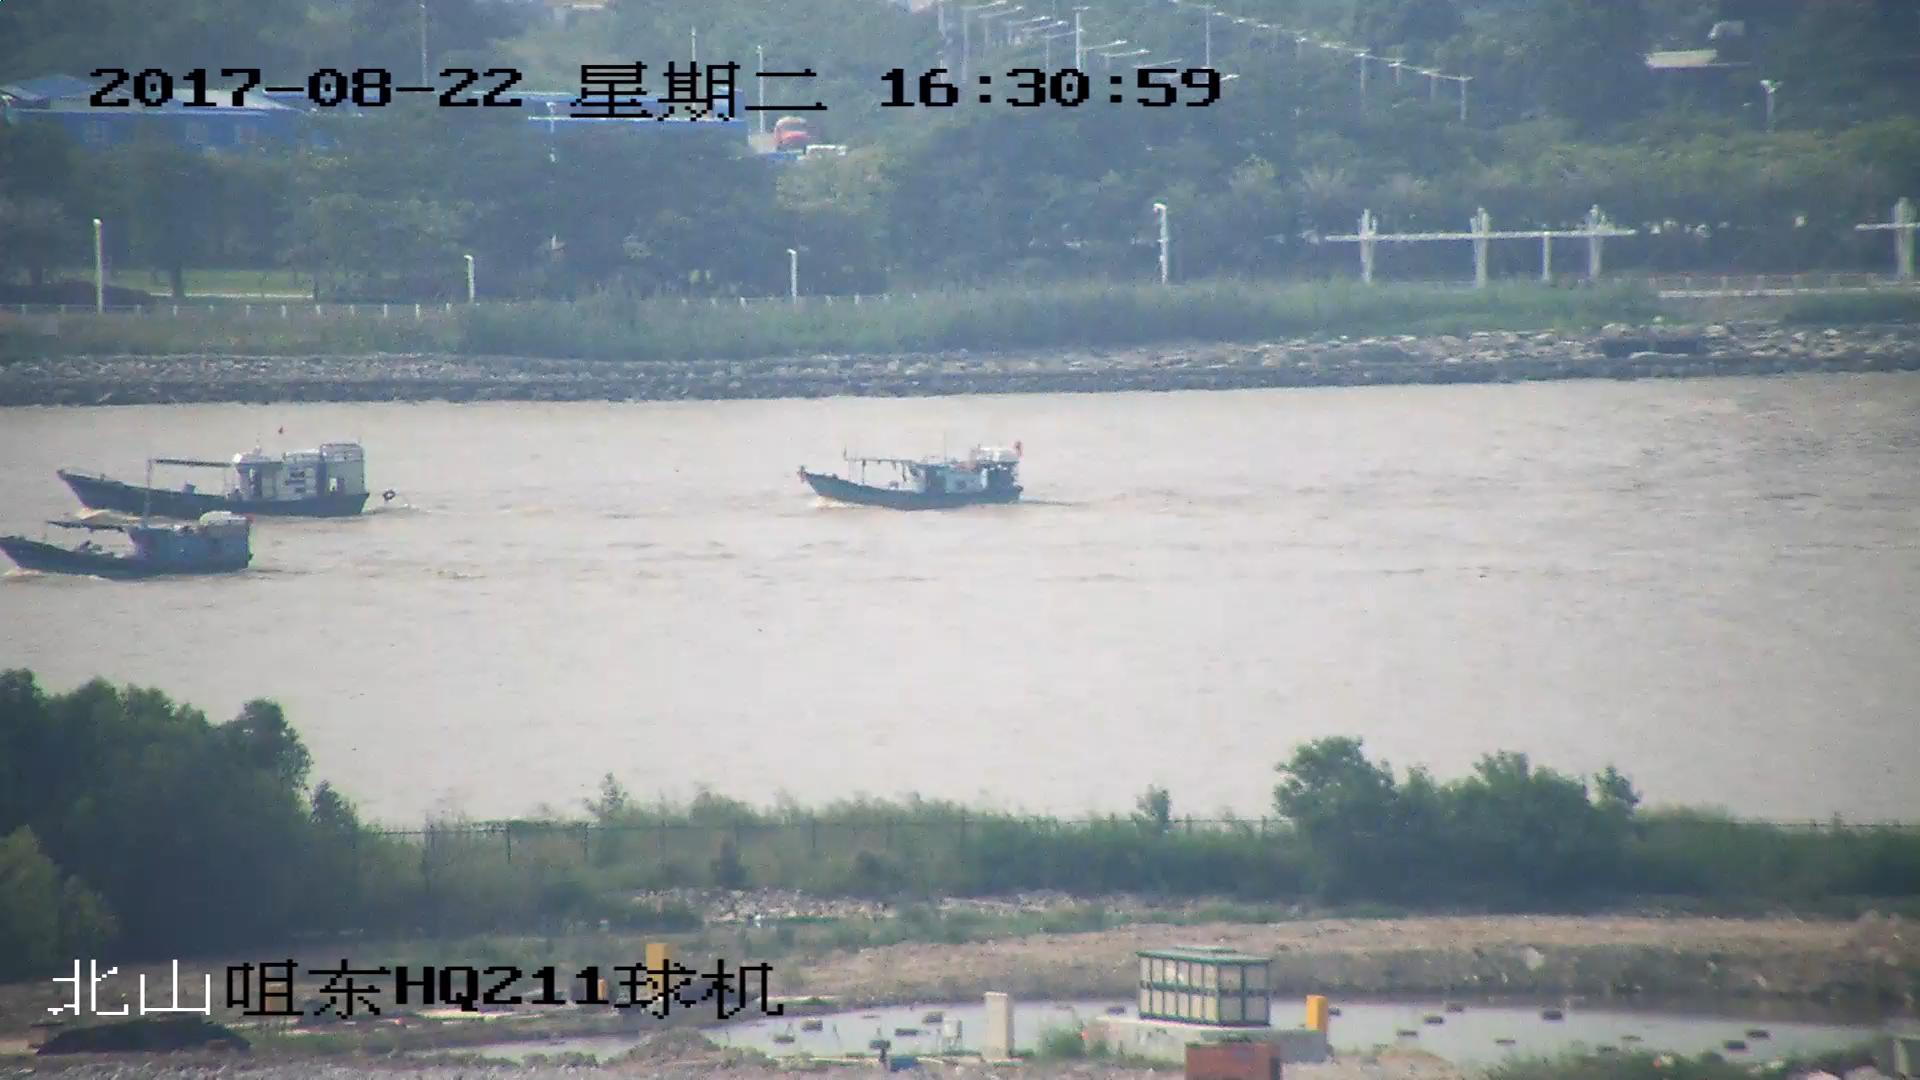fishing boat: (61, 441, 365, 525), (1, 511, 261, 580), (799, 444, 1027, 516)
